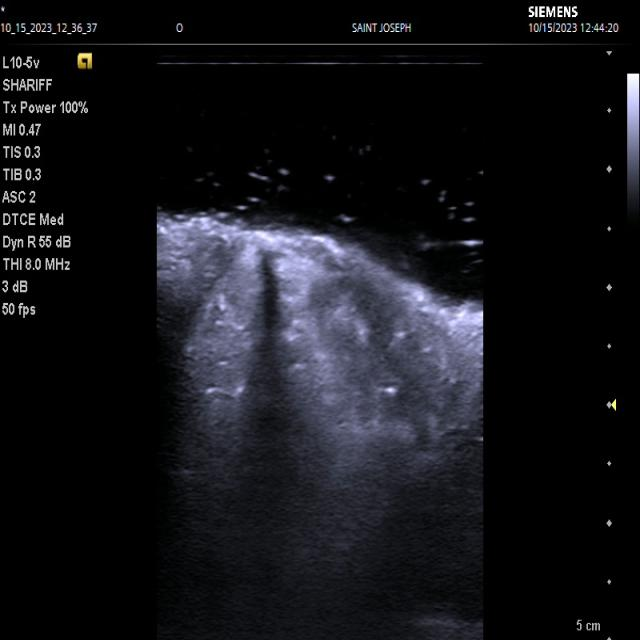tissue: (183, 234, 379, 584)
